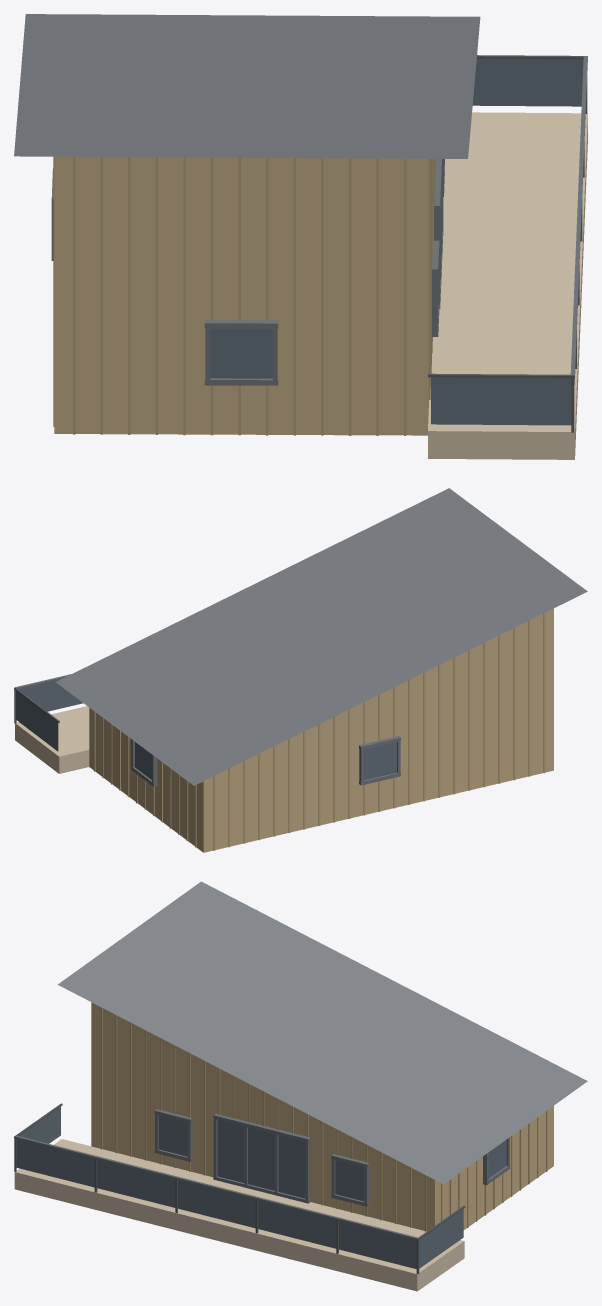
3 views of the same model, one above another, from view 1: azimuth 30°, elevation 25°; view 2: azimuth 150°, elevation 25°; view 3: azimuth 270°, elevation 25° (orthographic). The views are drawn at different scales.
Parts seen in each view (by area): view 1: door_wood, slate, larch, door_wood_p, window_glass_006, slate_dk, window_glass_007, window_glass_015, pipe; view 2: slate, door_wood, door_wood_p, larch, slate_dk, window_glass_007, window_glass_005, window_glass_014; view 3: slate, door_wood, larch, slate_dk, door_wood_p, window_glass_002, window_glass_001, window_glass_004, window_glass_003, window_glass_005, window_glass_010, window_glass_008 (+6 smaller).
Boxes of the visible parts, bbox=[...] form: door_wood: bbox=[54, 22, 428, 435]; slate: bbox=[14, 14, 480, 158]; larch: bbox=[428, 112, 587, 459]; door_wood_p: bbox=[53, 156, 435, 435]; window_glass_006: bbox=[431, 377, 571, 425]; slate_dk: bbox=[51, 56, 587, 385]; window_glass_007: bbox=[472, 58, 583, 106]; window_glass_015: bbox=[210, 329, 272, 378]; pipe: bbox=[428, 55, 587, 432]; slate: bbox=[55, 488, 587, 785]; door_wood: bbox=[89, 608, 553, 852]; door_wood_p: bbox=[94, 613, 545, 850]; larch: bbox=[15, 706, 89, 773]; slate_dk: bbox=[15, 674, 400, 786]; window_glass_007: bbox=[16, 691, 58, 751]; window_glass_005: bbox=[18, 680, 82, 711]; window_glass_014: bbox=[364, 742, 396, 780]; slate: bbox=[57, 881, 587, 1184]; door_wood: bbox=[91, 1002, 553, 1231]; larch: bbox=[14, 1139, 464, 1291]; slate_dk: bbox=[15, 1109, 510, 1239]; door_wood_p: bbox=[100, 1007, 547, 1231]; window_glass_002: bbox=[97, 1159, 175, 1207]; window_glass_001: bbox=[16, 1139, 94, 1187]; window_glass_004: bbox=[258, 1200, 336, 1248]; window_glass_003: bbox=[178, 1179, 255, 1228]; window_glass_005: bbox=[339, 1220, 416, 1268]; window_glass_010: bbox=[278, 1135, 305, 1198]; window_glass_008: bbox=[217, 1120, 244, 1182].
Size of the model in its own units: 14.09 by 5.29 by 15.04.
